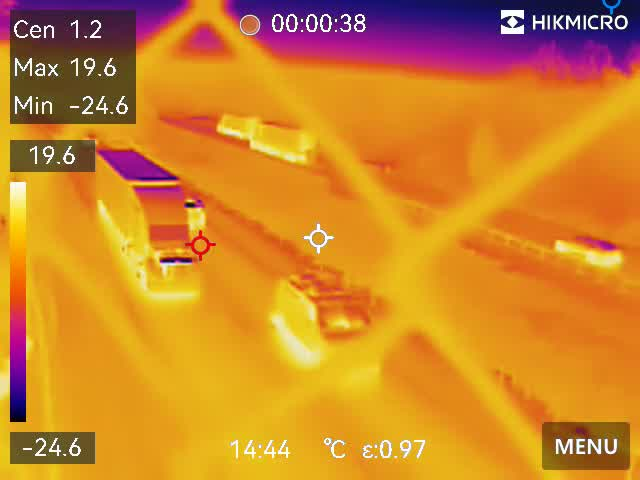heavyTruck: (86, 142, 193, 310), (249, 119, 315, 163), (212, 109, 261, 137)
largeCar: (269, 267, 381, 393), (552, 233, 623, 270)
vehicle: (185, 197, 215, 235)
